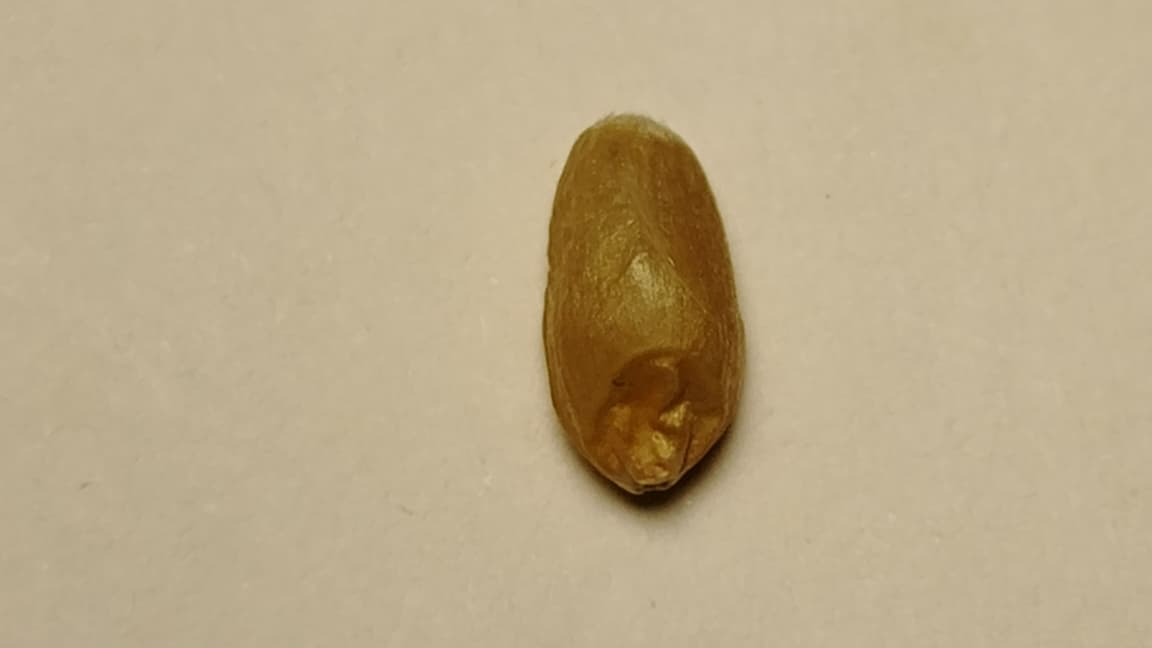healthy: (544, 116, 742, 492)
